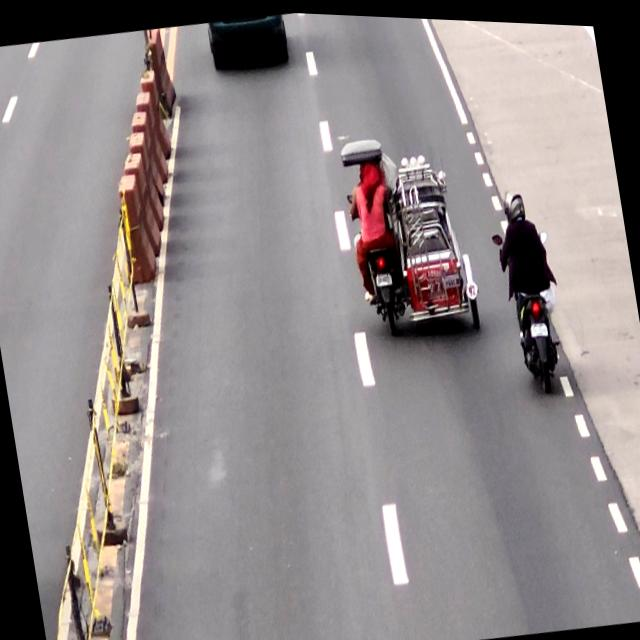License-Plate: (530, 315, 550, 334), (374, 269, 392, 284)
Motorcycle: (493, 215, 571, 393)
Tricycle: (338, 119, 486, 344)
